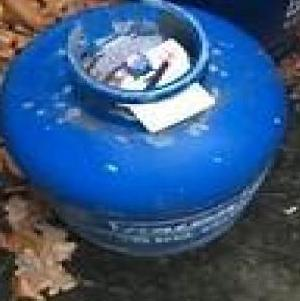cylinder: (1, 0, 300, 301)
